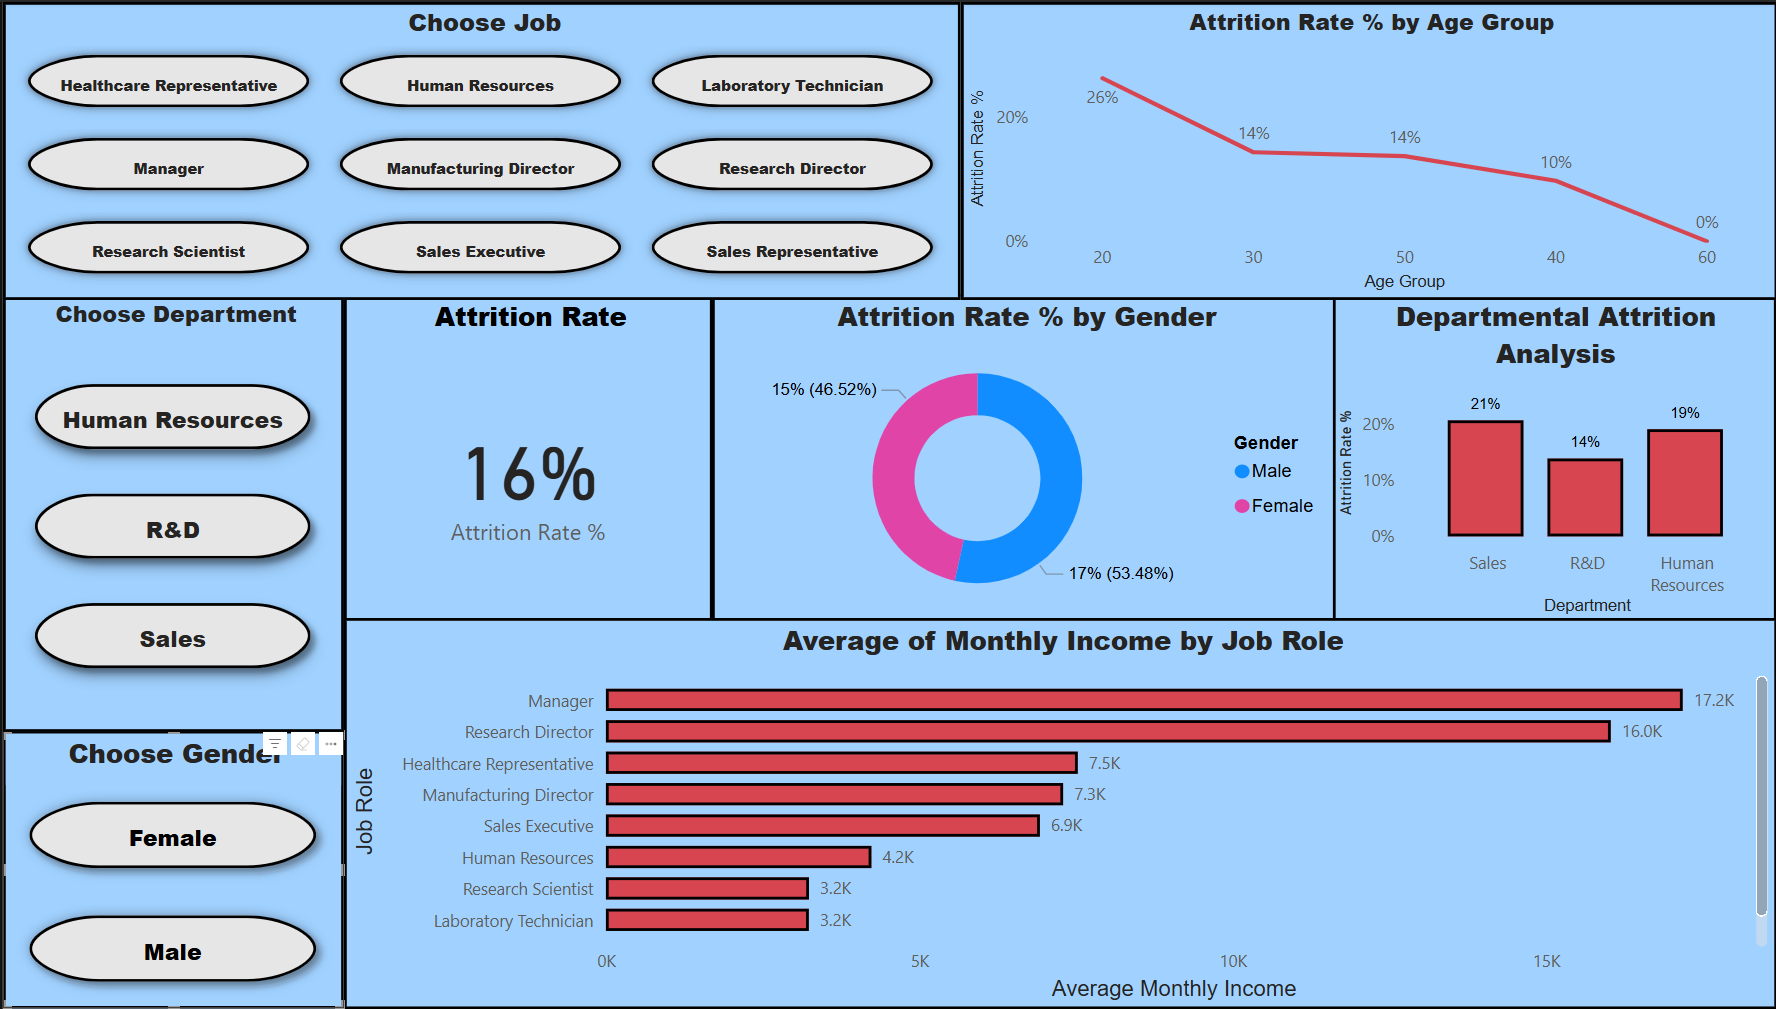

What the dashboard file says about the page in this screenshot:
{"tool":"powerbi","page":{"name":"Page 1","canvas":[1280,727],"ordinal":0},"visuals":[{"type":"card","title":"Attrition Rate","fields":{"Values":["IBM HR Analytics Attrition Dataset.Attrition Rate %"]},"box":[245.8,210.6,265.6,238.7],"z":0},{"type":"clusteredColumnChart","title":"Departmental Attrition Analysis","fields":{"Category":["IBM HR Analytics Attrition Dataset.Department"],"Y":["IBM HR Analytics Attrition Dataset.Attrition Rate %"]},"box":[956.9,210.6,323.4,238.7],"z":1000},{"type":"donutChart","fields":{"Category":["IBM HR Analytics Attrition Dataset.Gender"],"Y":["IBM HR Analytics Attrition Dataset.Attrition Rate %"]},"box":[511.4,210.6,450.4,238.7],"z":2000},{"type":"lineChart","title":"Attrition Rate % by Age Group","fields":{"Y":["IBM HR Analytics Attrition Dataset.Attrition Rate %"],"Category":["IBM HR Analytics Attrition Dataset.Age Bins Cleaned"]},"box":[691.3,0,589,215],"z":3000},{"type":"clusteredBarChart","title":"Average of Monthly Income by Job Role","fields":{"Category":["IBM HR Analytics Attrition Dataset.JobRole"],"Y":["Avg(IBM HR Analytics Attrition Dataset.MonthlyIncome)"]},"box":[246,444.2,1034,282.7],"z":4000},{"type":"advancedSlicerVisual","title":"Choose Gender","fields":{"Values":["IBM HR Analytics Attrition Dataset.Gender"]},"box":[0,526.2,246,200.7],"z":5000},{"type":"advancedSlicerVisual","title":"Choose Department","fields":{"Values":["IBM HR Analytics Attrition Dataset.Department"]},"box":[0,210.5,246,315.7],"z":6000},{"type":"advancedSlicerVisual","title":"Choose Job","fields":{"Values":["IBM HR Analytics Attrition Dataset.JobRole"]},"box":[0,0,691.3,215],"z":7000}]}

Visuals, with their boxes in screenshot pixels (x1, y1, x2, y2), scaled from the page's 1280x727 canvas onto the 1776x1009 screenshot:
"Attrition Rate" card: l=341, t=292, r=710, b=624
"Departmental Attrition Analysis" clusteredColumnChart: l=1328, t=292, r=1775, b=624
donutChart - IBM HR Analytics Attrition Dataset.Gender x IBM HR Analytics Attrition Dataset.Attrition Rate %: l=710, t=292, r=1334, b=624
"Attrition Rate % by Age Group" lineChart: l=959, t=0, r=1775, b=298
"Average of Monthly Income by Job Role" clusteredBarChart: l=341, t=617, r=1775, b=1008
"Choose Gender" advancedSlicerVisual: l=0, t=730, r=341, b=1008
"Choose Department" advancedSlicerVisual: l=0, t=292, r=341, b=730
"Choose Job" advancedSlicerVisual: l=0, t=0, r=959, b=298
